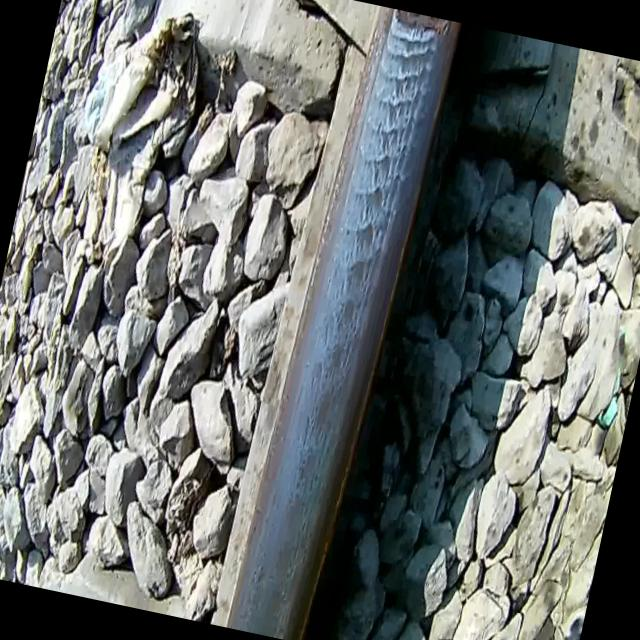Spallings: (381, 7, 460, 40)
Squats: (254, 15, 449, 640)
